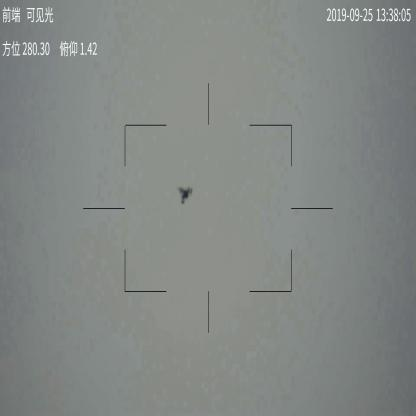uav: (177, 184, 194, 206)
